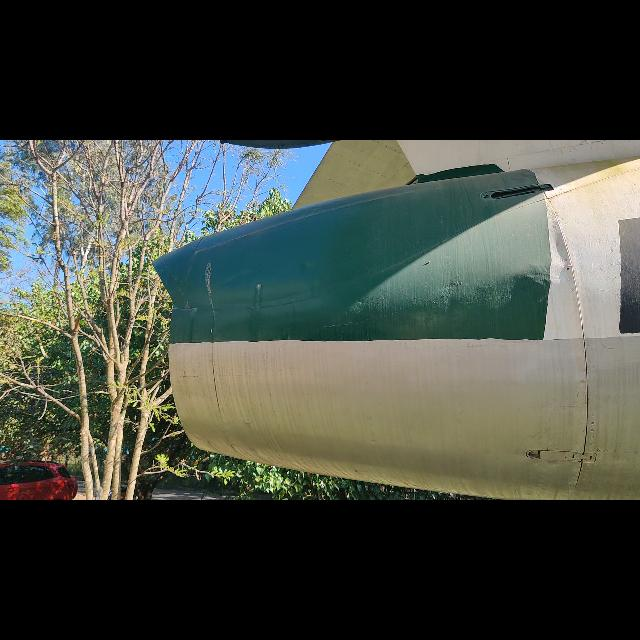dent: (497, 272, 547, 316), (548, 235, 576, 261)
